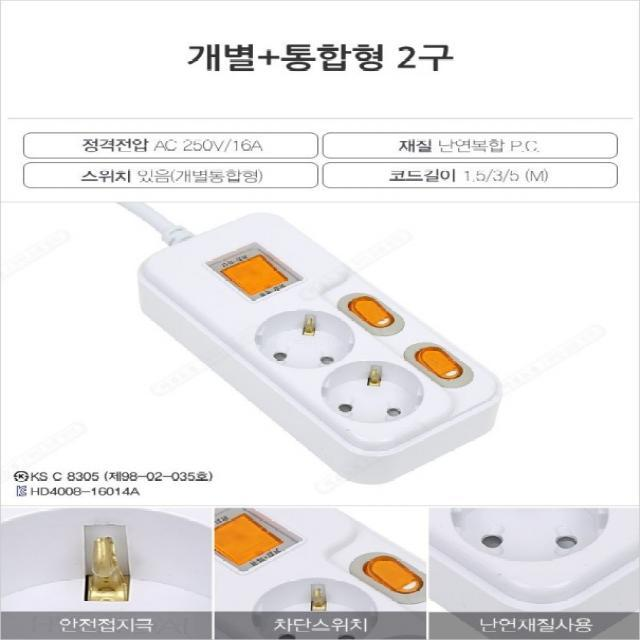typeb: (132, 212, 513, 476)
